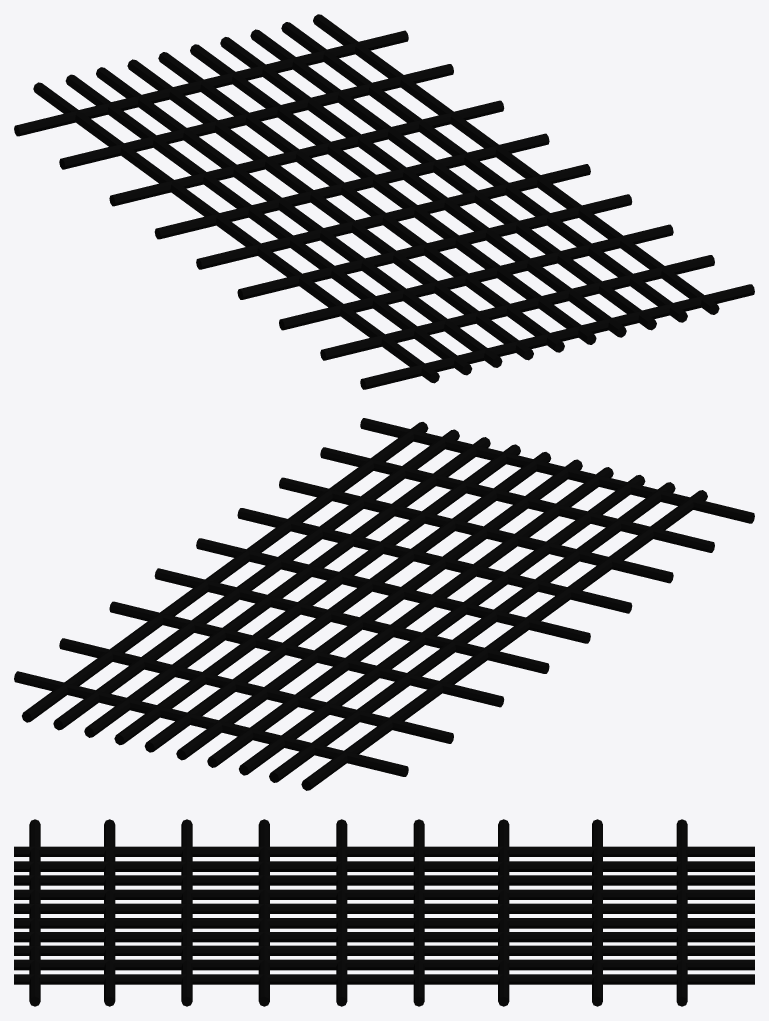
Rendered from Pipes.glb.
The picture shows the model from 3 angles, top to bottom: view 1: azimuth 30°, elevation 25°; view 2: azimuth 150°, elevation 25°; view 3: azimuth 270°, elevation 25°; orthographic projection. The views are drawn at different scales.
Visible parts, largest first — view 1: Pipes_Combined; view 2: Pipes_Combined; view 3: Pipes_Combined.
Boxes of the visible parts, x1=… form: Pipes_Combined: x1=14, y1=14, x2=754, y2=389; Pipes_Combined: x1=14, y1=418, x2=754, y2=790; Pipes_Combined: x1=14, y1=819, x2=754, y2=1006.
Size of the model in its own units: 0.7559 by 0.02 by 1.33.
Materials: 1 (1 with a texture image).
